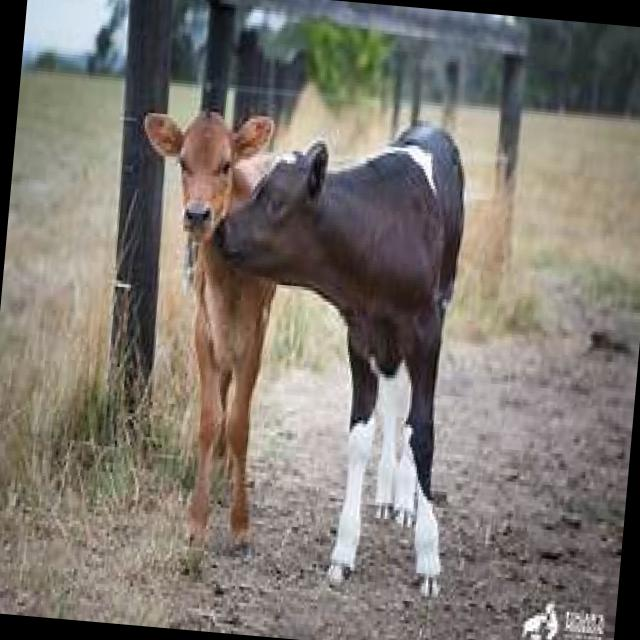cow: (193, 102, 482, 591), (107, 107, 294, 554)
